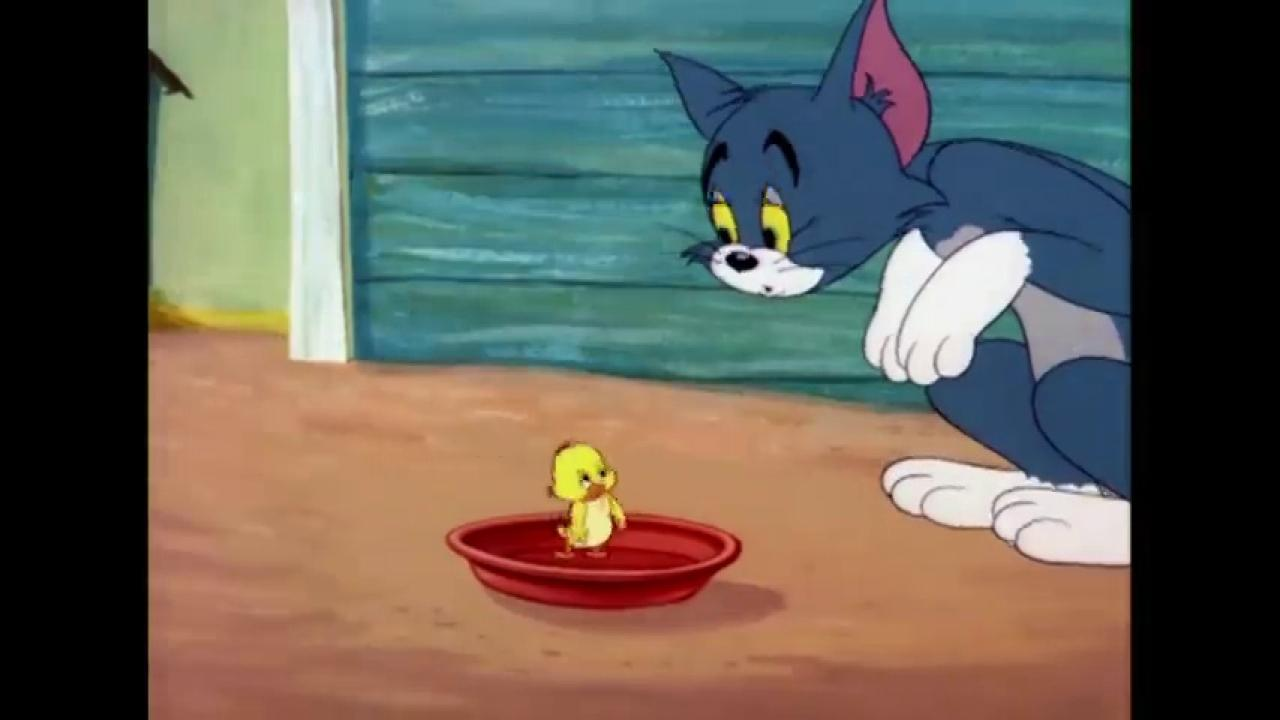Tom: (650, 0, 1130, 566)
